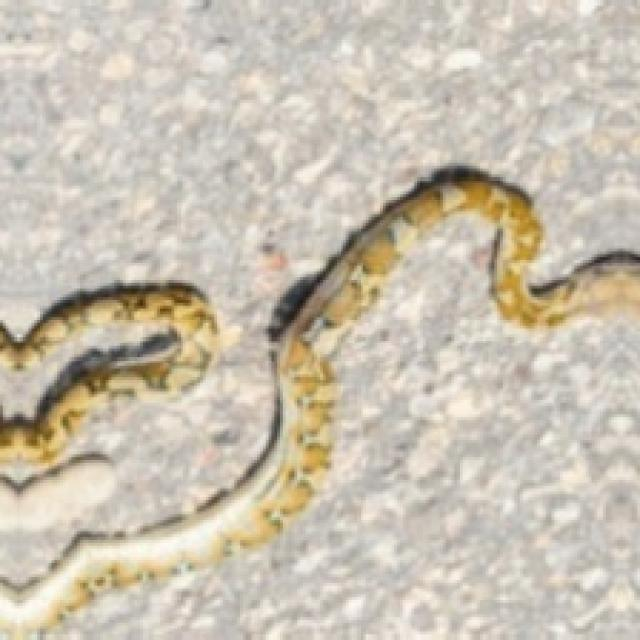reticulated python: (0, 166, 640, 639), (0, 282, 219, 468)
